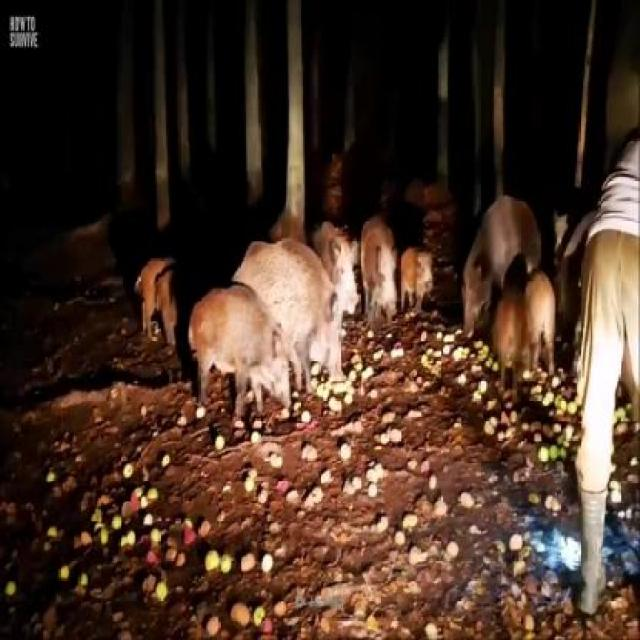pig: (174, 263, 301, 452), (455, 160, 544, 365), (238, 214, 337, 386), (304, 191, 356, 349), (128, 237, 188, 370), (357, 209, 410, 337), (516, 251, 562, 370), (486, 268, 519, 398), (400, 218, 432, 344)
